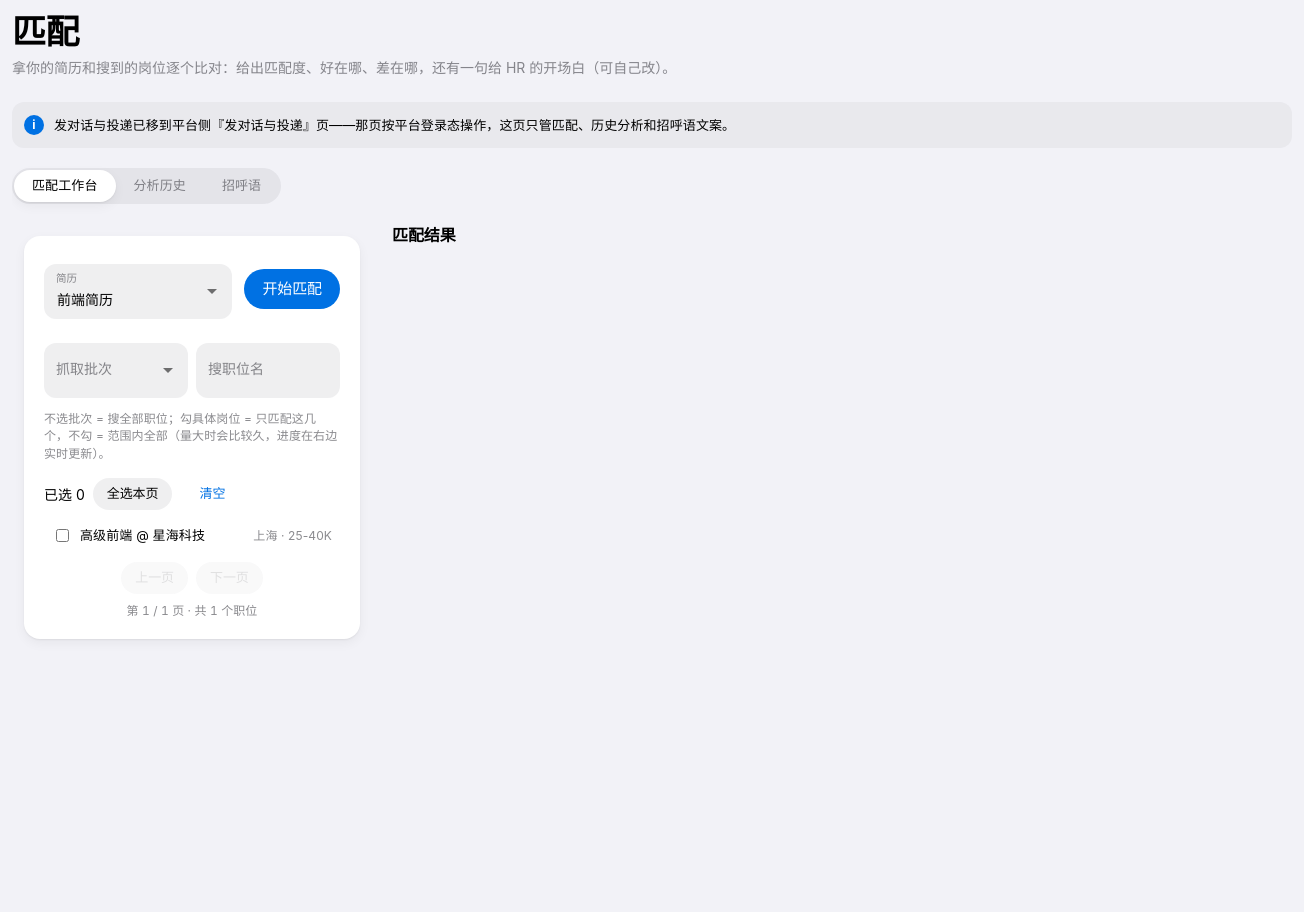
Test: MatchPage 历史分析 › 列表渲染：简历、职位数、最高分、模型都可读
This screenshot has width=1304, height=912.
Click the radio button labelled "分析历史" at x=160, y=186, box [116,170,204,202]
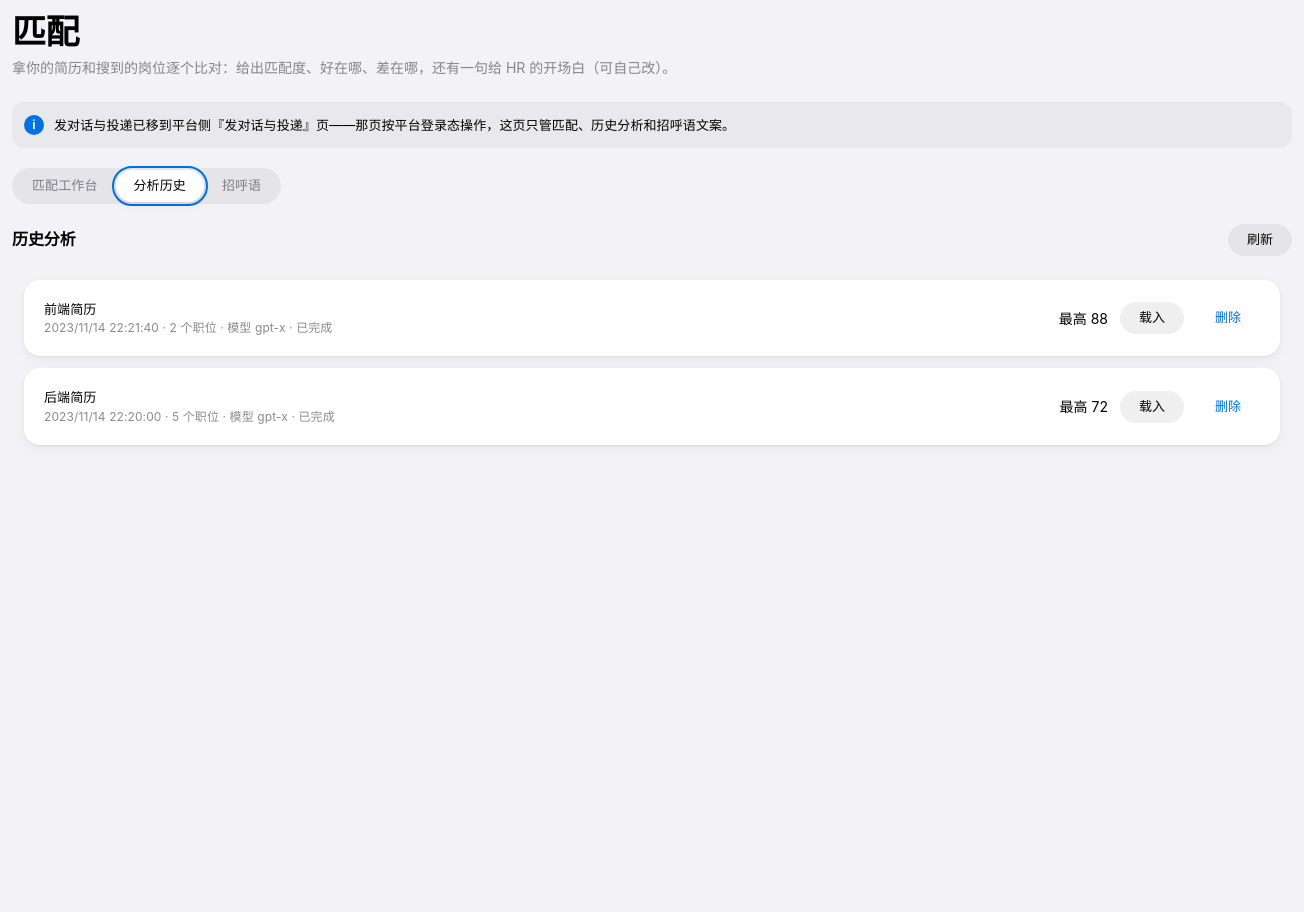
Check: the text "前端简历" is shown, box [44,301,96,317]
Check: the text "2023/11/14 22:21:40 · 2 个职位 · 模型 gpt-x · 已完成" is shown, box [44,320,332,335]
Check: the element named "历史分析 a2" is shown, box [24,368,1280,445]
